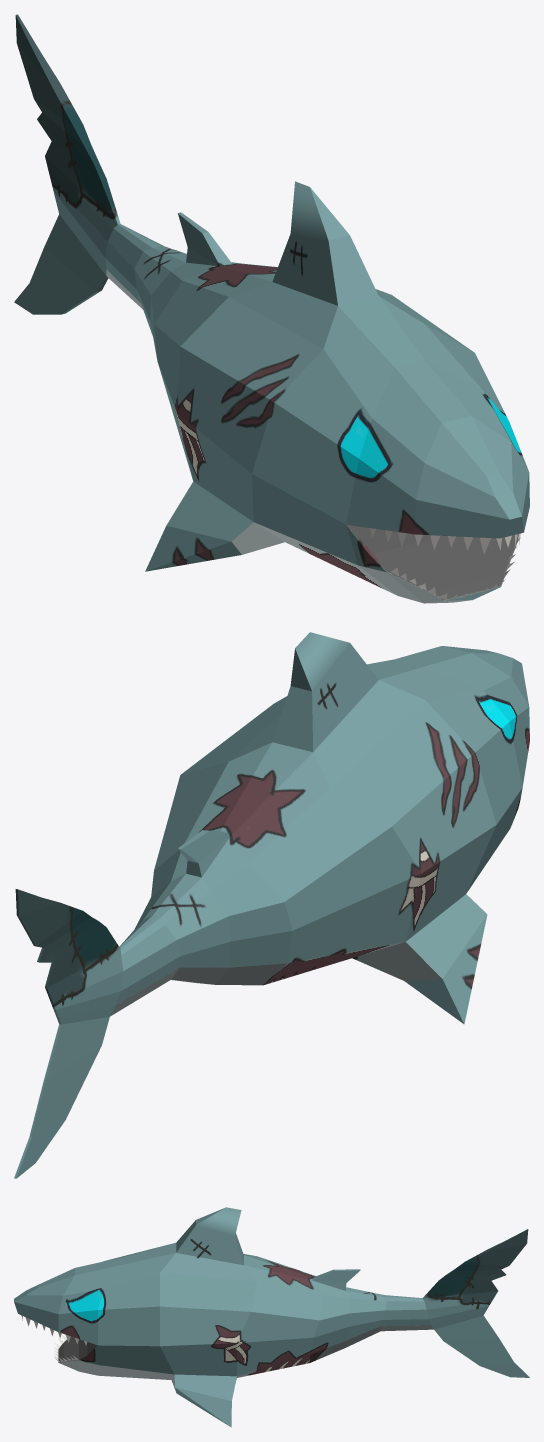
File: shark textured.fbx
3 renders of one model, top to bottom at view 1: azimuth 30°, elevation 25°; view 2: azimuth 150°, elevation 25°; view 3: azimuth 270°, elevation 25°, orthographic. The views are drawn at different scales.
Parts seen in each view (by area): view 1: Plane021; view 2: Plane021; view 3: Plane021.
Part boxes in pixels (left/top/right/bottom): Plane021: left=14, top=14, right=529, bottom=603; Plane021: left=14, top=632, right=529, bottom=1178; Plane021: left=14, top=1207, right=529, bottom=1427.
Size of the model in its own units: 74.83 by 78.3 by 203.
1 material, 1 textured.
